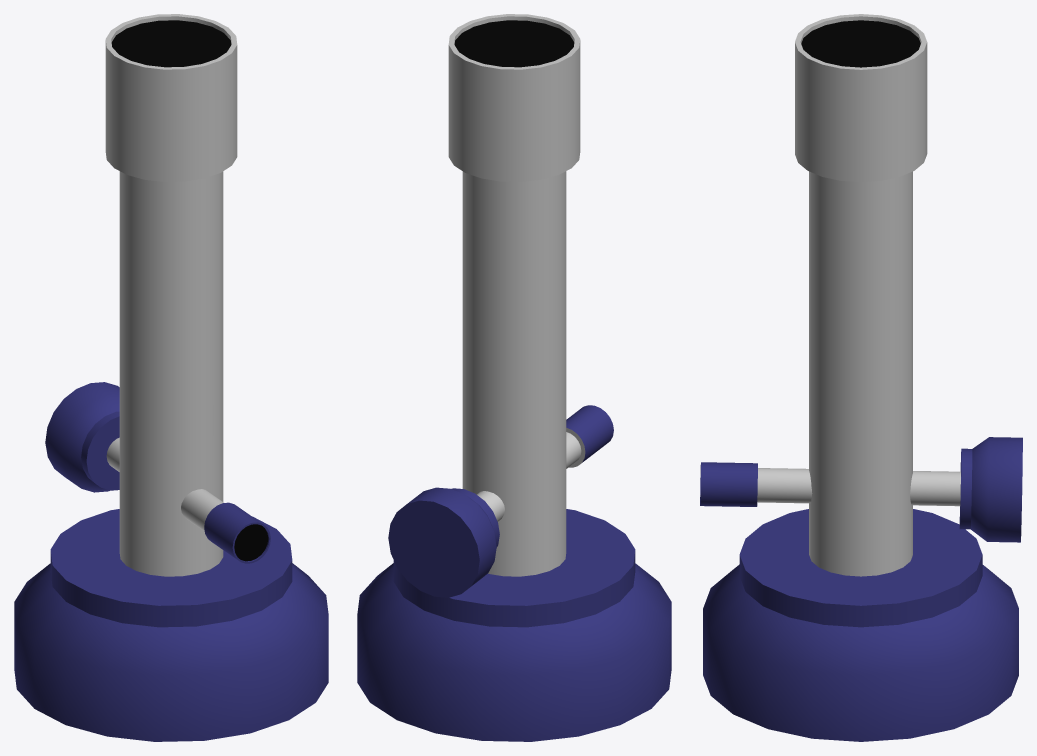
Rendered from BunsenBurner.fbx.
3 views of the same model, side by side, from view 1: azimuth 30°, elevation 25°; view 2: azimuth 150°, elevation 25°; view 3: azimuth 270°, elevation 25° (orthographic).
Parts seen in each view (by area): view 1: pCylinder17; view 2: pCylinder17; view 3: pCylinder17.
Boxes of the visible parts, bbox=[...] form: pCylinder17: bbox=[14, 14, 328, 741]; pCylinder17: bbox=[357, 14, 671, 741]; pCylinder17: bbox=[700, 14, 1022, 741].
Bounding box in the file's own units: 22.12 × 48.89 × 22.59.
